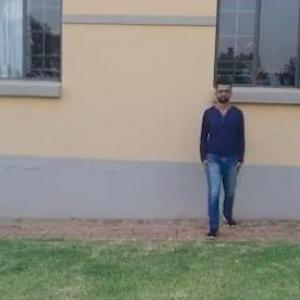follow: (201, 75, 248, 235)
